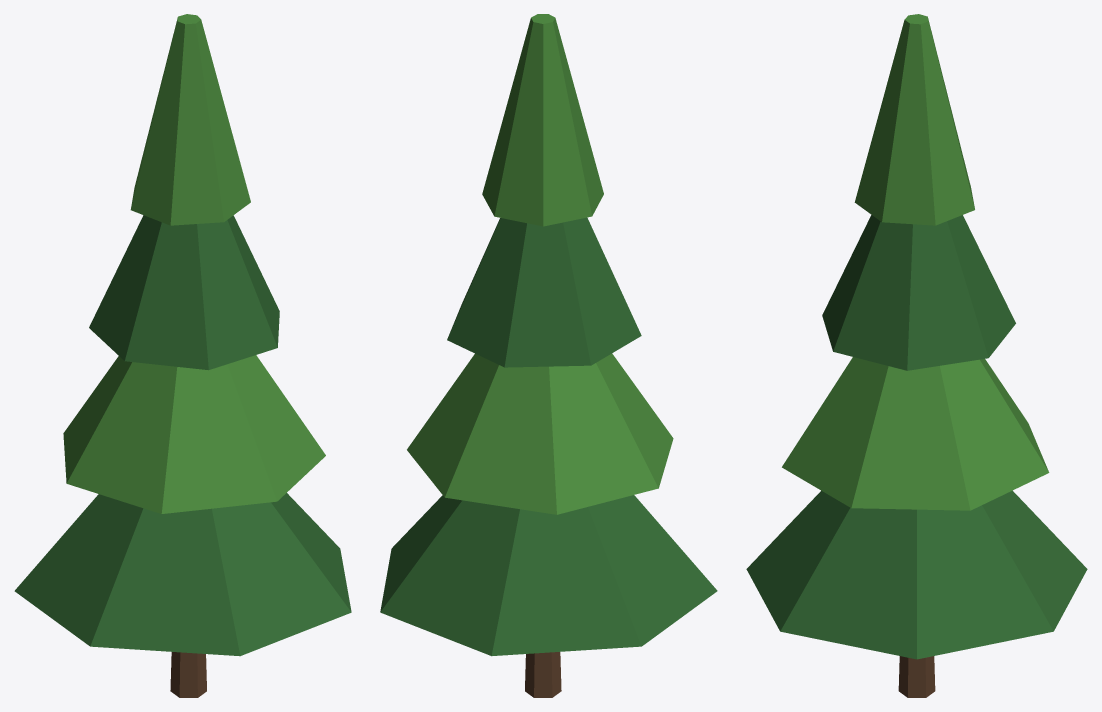
Rendered from pine.glb.
The picture shows the model from 3 angles, left to right: view 1: azimuth 30°, elevation 25°; view 2: azimuth 150°, elevation 25°; view 3: azimuth 270°, elevation 25°; orthographic projection.
Visible parts, largest first — view 1: pine; view 2: pine; view 3: pine.
Boxes of the visible parts, box(x1,y1,x2,y2) form: pine: box(14, 14, 351, 697); pine: box(380, 14, 717, 697); pine: box(746, 14, 1087, 697).
Bounding box in the file's own units: 3.99 × 8.9 × 4.09.
